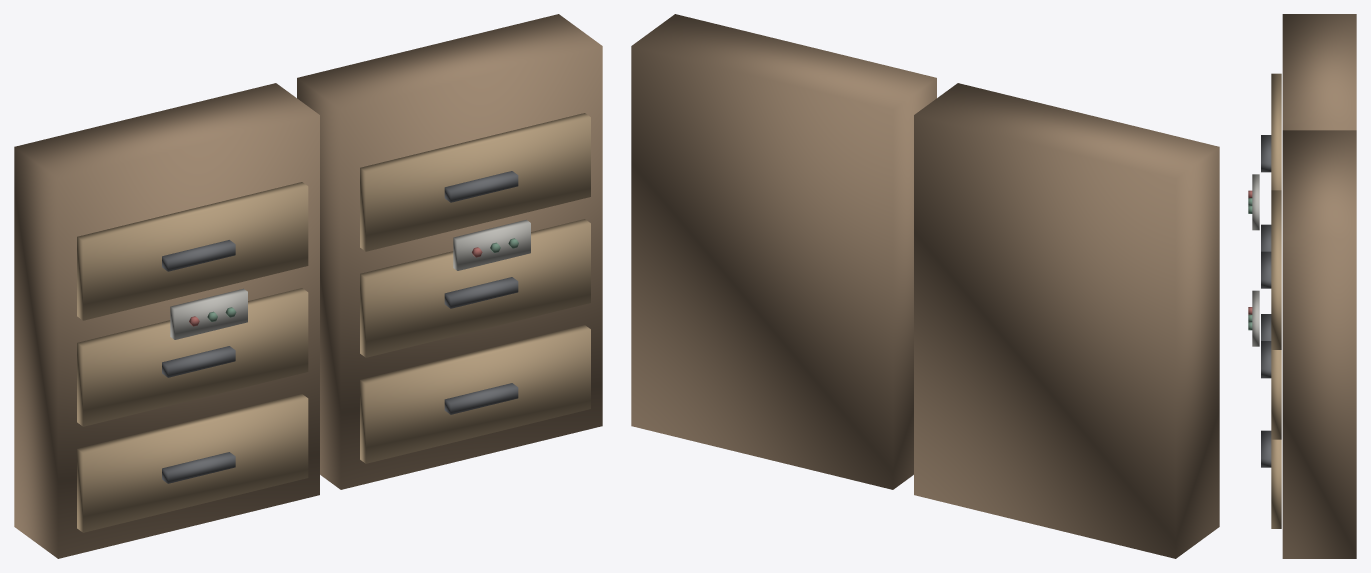
The model's file is medicine_cabinet__cluster.glb.
3 views of the same model, side by side, from view 1: azimuth 30°, elevation 25°; view 2: azimuth 150°, elevation 25°; view 3: azimuth 270°, elevation 25° (orthographic). The views are drawn at different scales.
Parts seen in each view (by area): view 1: world; view 2: world; view 3: world.
Boxes of the visible parts, bbox=[...] form: world: bbox=[14, 14, 602, 558]; world: bbox=[631, 14, 1219, 558]; world: bbox=[1248, 14, 1356, 558].
Size of the model in its own units: 1.29 by 0.86 by 0.2635.
